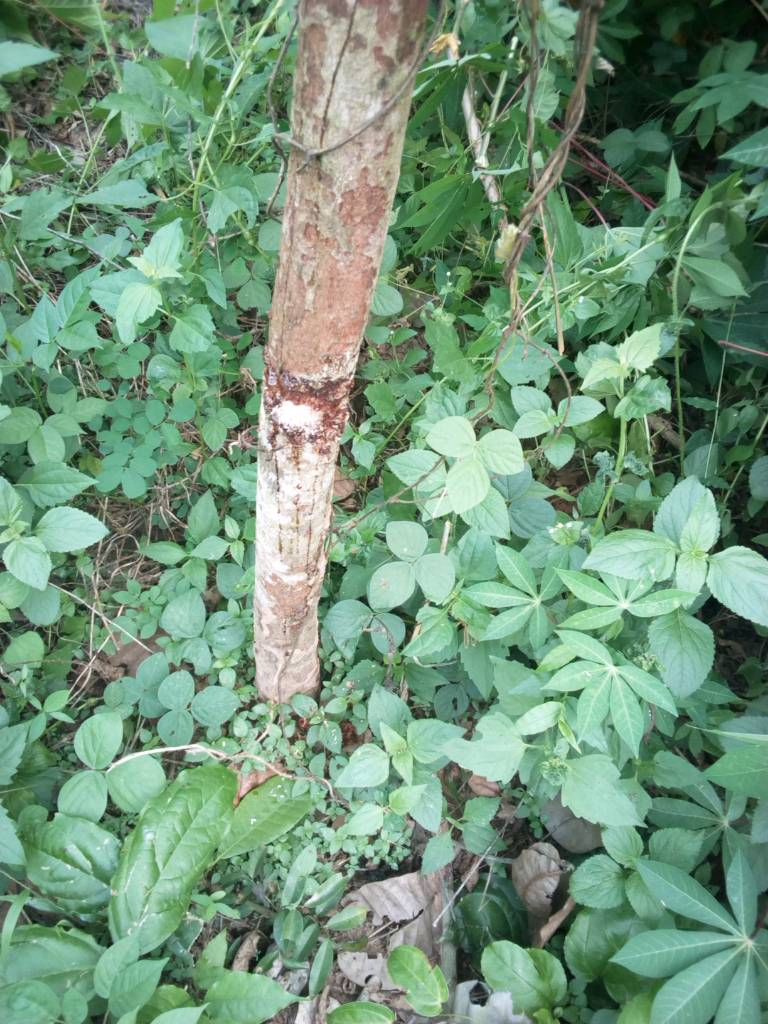Analepse trifasciata: (247, 353, 380, 450)
